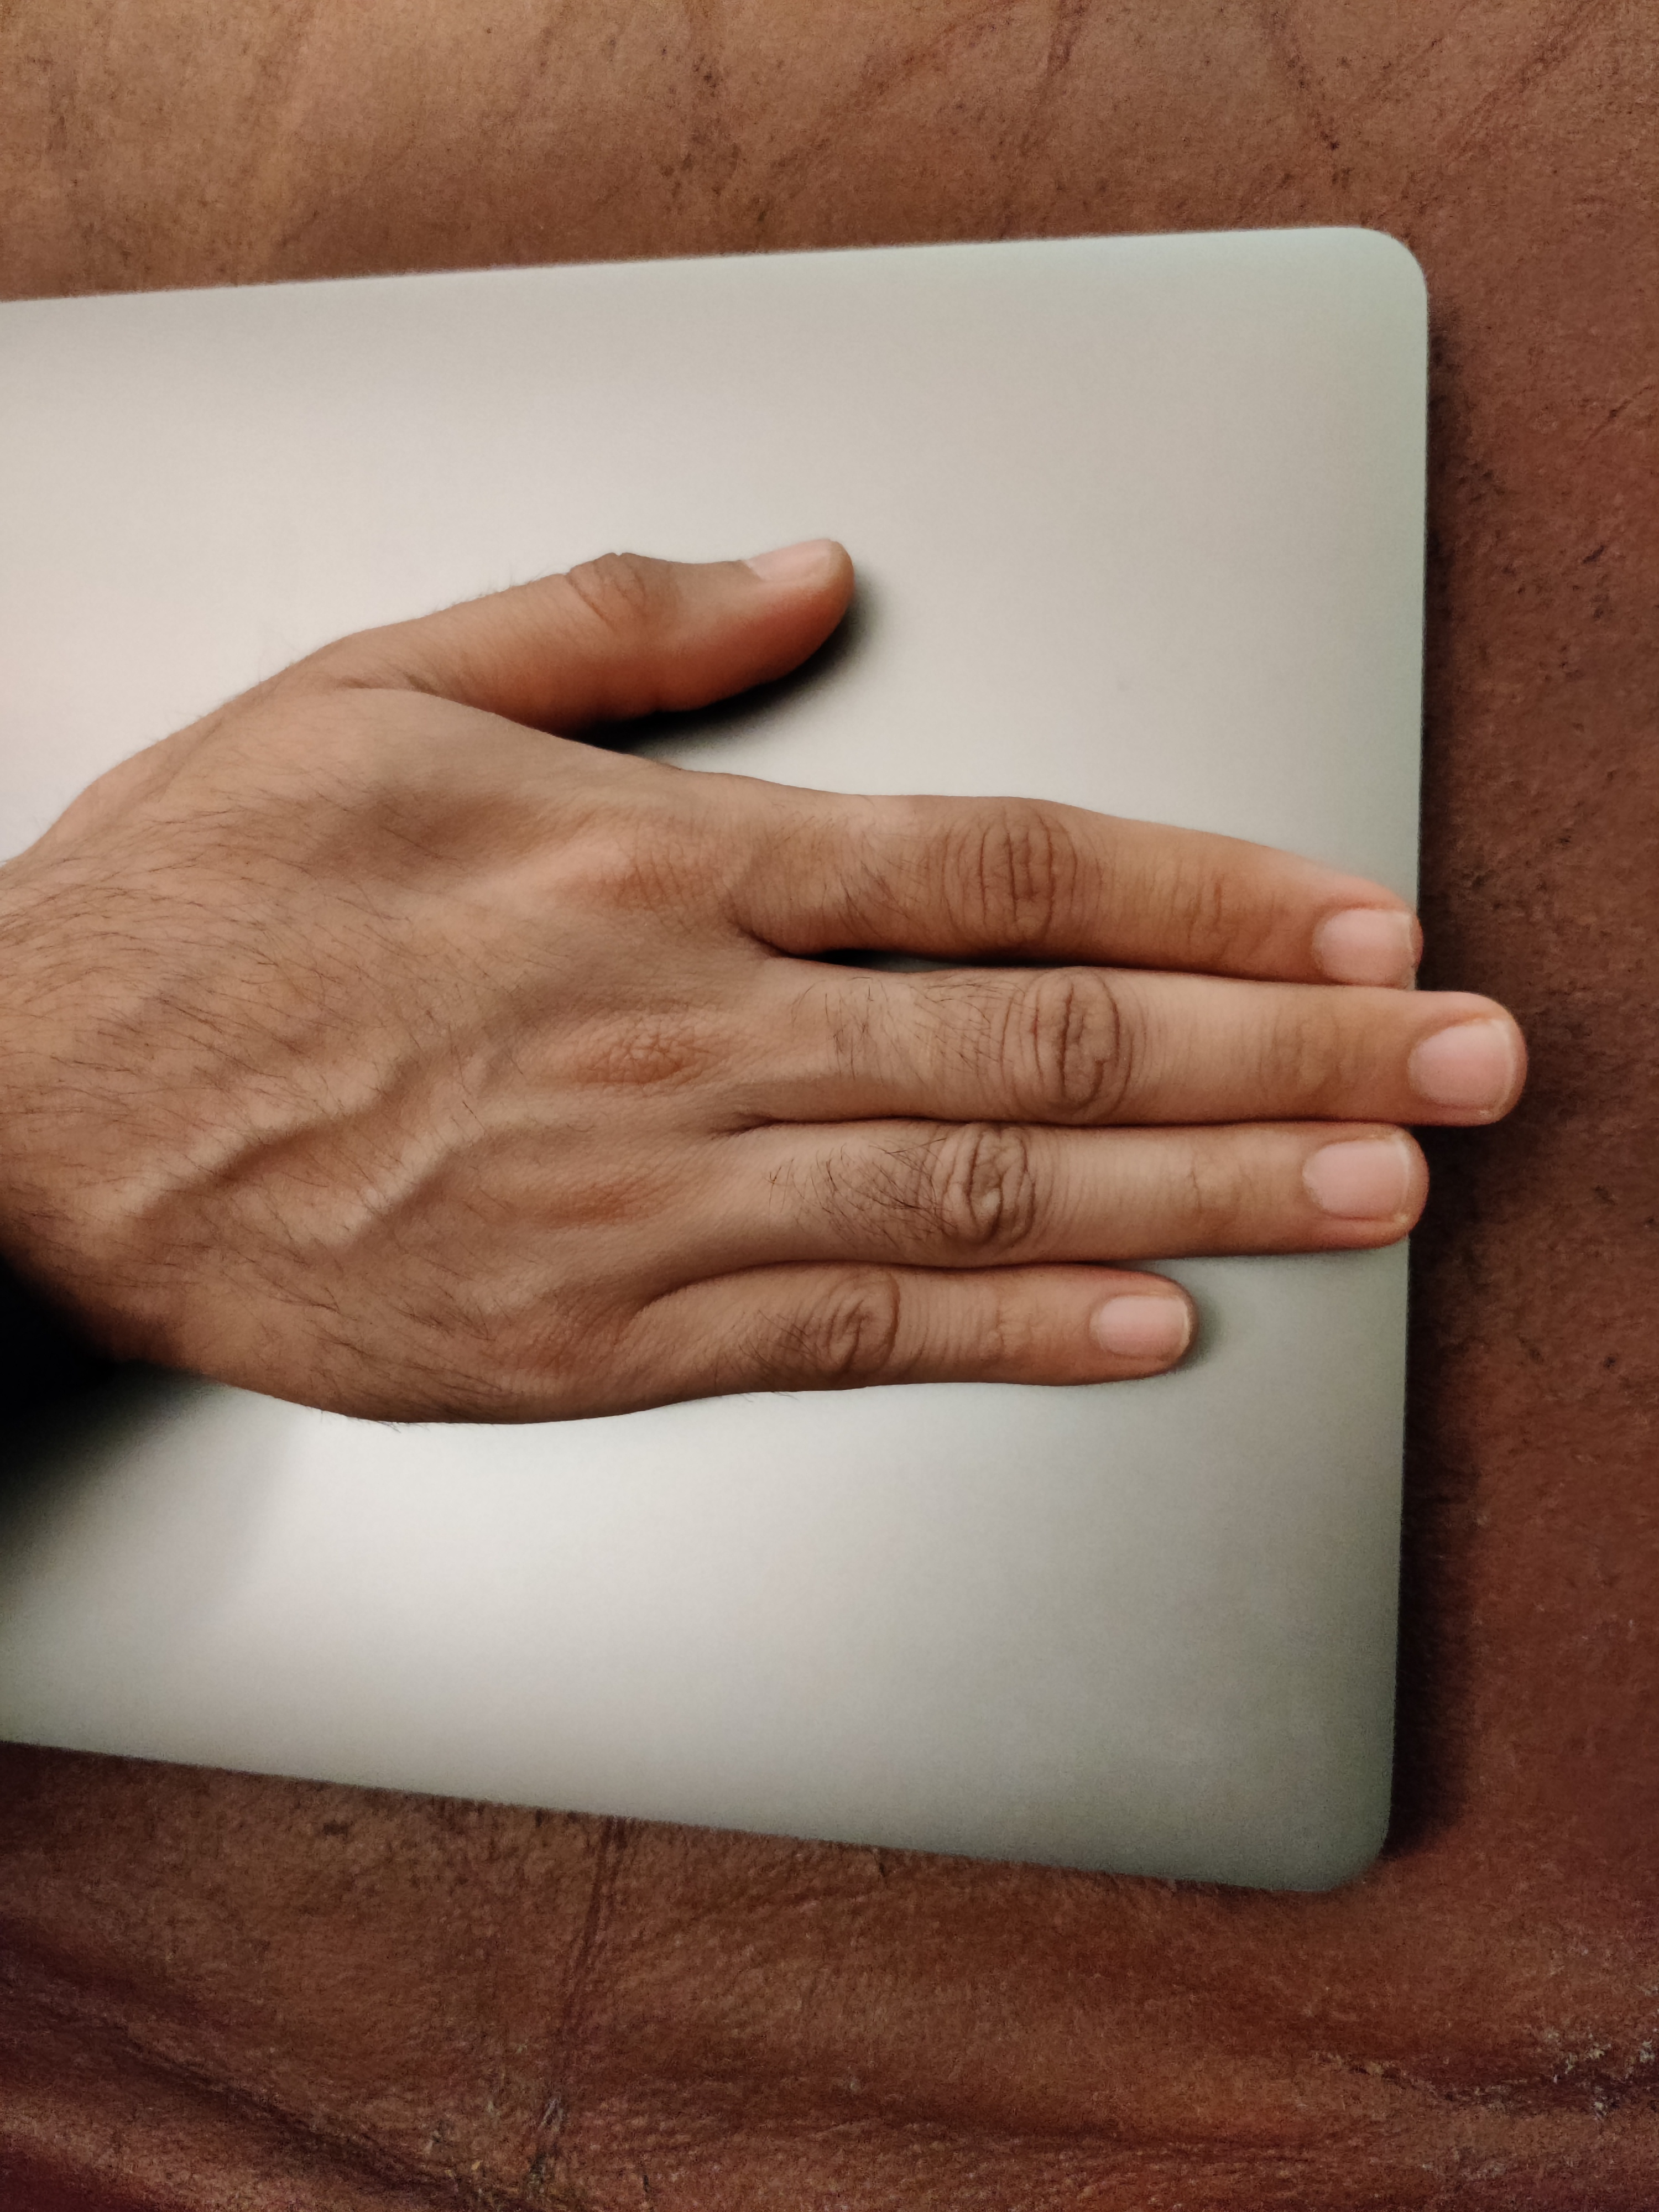left: (12, 219, 1556, 1543)
